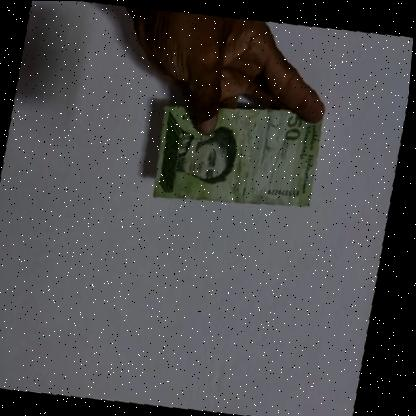fifty-front-vef: (144, 80, 336, 223)
